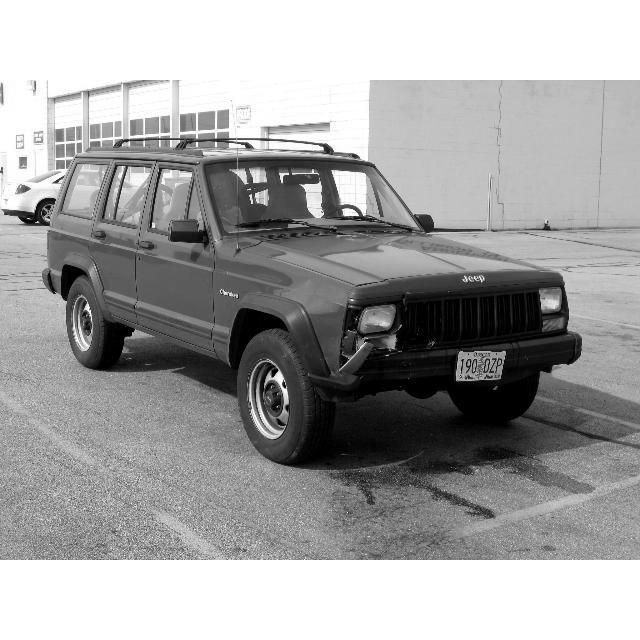Headlight-damage: (337, 292, 410, 375)
